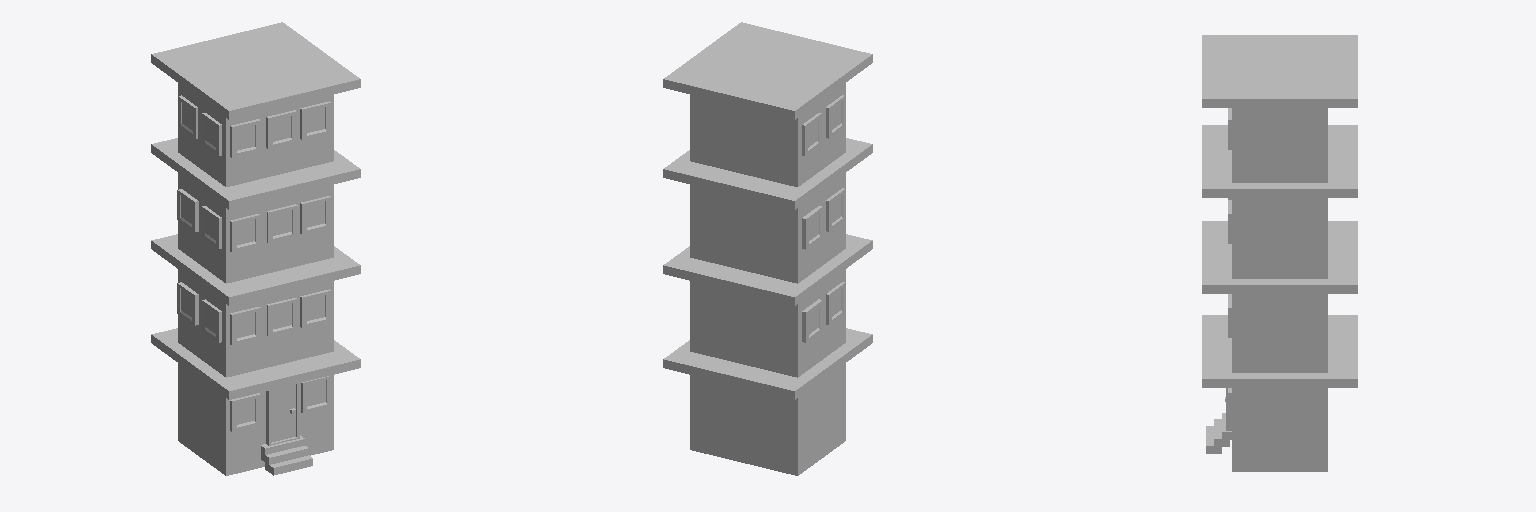
The model's file is buildingwstairs.obj.
The picture shows the model from 3 angles: view 1: azimuth 30°, elevation 25°; view 2: azimuth 150°, elevation 25°; view 3: azimuth 270°, elevation 25°; orthographic projection.
Visible parts, largest first — view 1: group15 pasted__pasted__pasted__pCube1 pasted__pasted__group2 pa, group15 pasted__pasted__pasted__pCube2 pasted__pasted__group1 pa, pasted__pasted__pasted__pasted__pCube1 pasted__pasted__pasted__g, group15 pasted__pasted__pasted__pasted__pCube3 pasted__pasted__p, group15 pasted__pasted__pCube1 pasted__group2, group15 pasted__pasted__pasted__pCube3 pasted__pasted__group8 pa, group15 pasted__pasted__pCube2 pasted__group1, group15 pasted__pasted__pCube2 pasted__group14, group15 pasted__pCube2, group15 pasted__pCube4, group15 pasted__pasted__pasted__pasted__pasted__pCube3 pasted__p, group15 pasted__pasted__pCube3 pasted__group8 (+3 smaller); view 2: group15 pasted__pasted__pasted__pCube1 pasted__pasted__group2 pa, pasted__pasted__pasted__pasted__pCube1 pasted__pasted__pasted__g, group15 pasted__pasted__pasted__pCube2 pasted__pasted__group1 pa, group15 pasted__pasted__pCube1 pasted__group2, group15 pasted__pasted__pCube2 pasted__group1, group15 pasted__pasted__pCube2 pasted__group14, group15 pasted__pCube2, group15 pasted__pasted__pasted__pasted__pCube3 pasted__pasted__p, group15 pasted__pasted__pasted__pCube3 pasted__pasted__group8 pa, group15 pasted__pasted__pasted__pasted__pasted__pasted__pasted__, group15 pasted__pasted__pasted__pasted__pasted__pCube3 pasted__p, group15 pasted__pasted__pasted__pasted__pasted__pasted__pCube3 p; view 3: group15 pasted__pasted__pasted__pCube1 pasted__pasted__group2 pa, group15 pasted__pasted__pasted__pCube2 pasted__pasted__group1 pa, pasted__pasted__pasted__pasted__pCube1 pasted__pasted__pasted__g, group15 pasted__pasted__pCube1 pasted__group2, group15 pasted__pasted__pCube2 pasted__group14, group15 pasted__pCube2, group15 pasted__pasted__pCube2 pasted__group1.
Boxes of the visible parts, <box> form: group15 pasted__pasted__pasted__pCube1 pasted__pasted__group2 pa: <box>178,173,333,377</box>; group15 pasted__pasted__pasted__pCube2 pasted__pasted__group1 pa: <box>151,22,360,119</box>; pasted__pasted__pasted__pasted__pCube1 pasted__pasted__pasted__g: <box>178,363,333,475</box>; group15 pasted__pasted__pasted__pasted__pCube3 pasted__pasted__p: <box>177,101,331,412</box>; group15 pasted__pasted__pCube1 pasted__group2: <box>178,83,333,186</box>; group15 pasted__pasted__pasted__pCube3 pasted__pasted__group8 pa: <box>177,196,330,431</box>; group15 pasted__pasted__pCube2 pasted__group1: <box>151,138,360,209</box>; group15 pasted__pasted__pCube2 pasted__group14: <box>151,328,360,399</box>; group15 pasted__pCube2: <box>151,234,360,305</box>; group15 pasted__pCube4: <box>266,383,299,445</box>; group15 pasted__pasted__pasted__pasted__pasted__pCube3 pasted__p: <box>202,110,296,248</box>; group15 pasted__pasted__pCube3 pasted__group8: <box>230,307,260,344</box>; group15 pasted__pasted__pasted__pCube1 pasted__pasted__group2 pa: <box>690,173,845,377</box>; pasted__pasted__pasted__pasted__pCube1 pasted__pasted__pasted__g: <box>690,363,845,475</box>; group15 pasted__pasted__pasted__pCube2 pasted__pasted__group1 pa: <box>663,22,872,119</box>; group15 pasted__pasted__pCube1 pasted__group2: <box>690,83,845,186</box>; group15 pasted__pasted__pCube2 pasted__group1: <box>663,138,872,209</box>; group15 pasted__pasted__pCube2 pasted__group14: <box>663,328,872,399</box>; group15 pasted__pCube2: <box>663,234,872,305</box>; group15 pasted__pasted__pasted__pasted__pCube3 pasted__pasted__p: <box>802,206,844,324</box>; group15 pasted__pasted__pasted__pCube3 pasted__pasted__group8 pa: <box>802,299,822,342</box>; group15 pasted__pasted__pasted__pasted__pasted__pasted__pasted__: <box>802,113,821,155</box>; group15 pasted__pasted__pasted__pasted__pasted__pCube3 pasted__p: <box>826,188,844,231</box>; group15 pasted__pasted__pasted__pasted__pasted__pasted__pCube3 p: <box>826,95,844,138</box>; group15 pasted__pasted__pasted__pCube1 pasted__pasted__group2 pa: <box>1232,198,1327,372</box>; group15 pasted__pasted__pasted__pCube2 pasted__pasted__group1 pa: <box>1202,35,1357,107</box>; pasted__pasted__pasted__pasted__pCube1 pasted__pasted__pasted__g: <box>1232,388,1327,471</box>; group15 pasted__pasted__pCube1 pasted__group2: <box>1232,108,1327,182</box>; group15 pasted__pasted__pCube2 pasted__group14: <box>1202,315,1357,387</box>; group15 pasted__pCube2: <box>1202,221,1357,293</box>; group15 pasted__pasted__pCube2 pasted__group1: <box>1202,125,1357,197</box>.
Bounding box in the file's own units: 154 × 423 × 157.